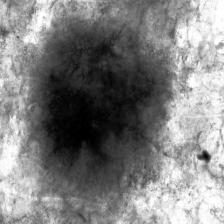Benign Marking or Mole: (39, 32, 164, 174)
